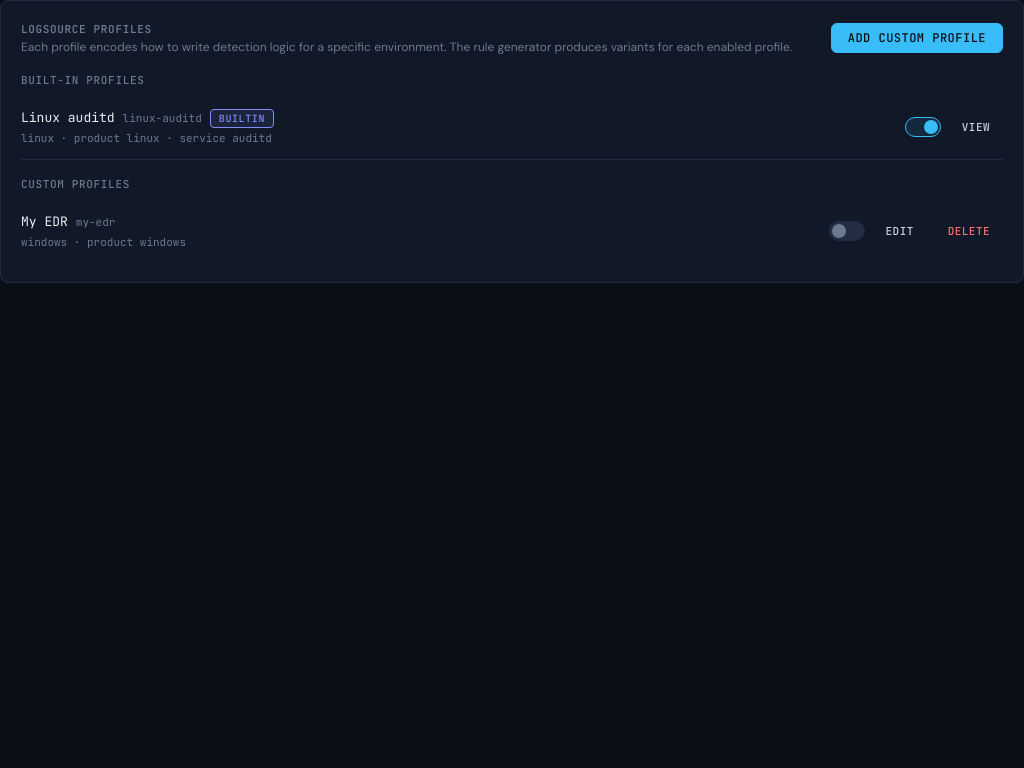
Test: ProfilesSection › opens a read-only modal exposing built-in content (no Save, fields disabled)
Expected: the text "Linux auditd" is shown, [21,109,115,126]
Click the button "View" at (976, 127), box [949,117,1003,138]
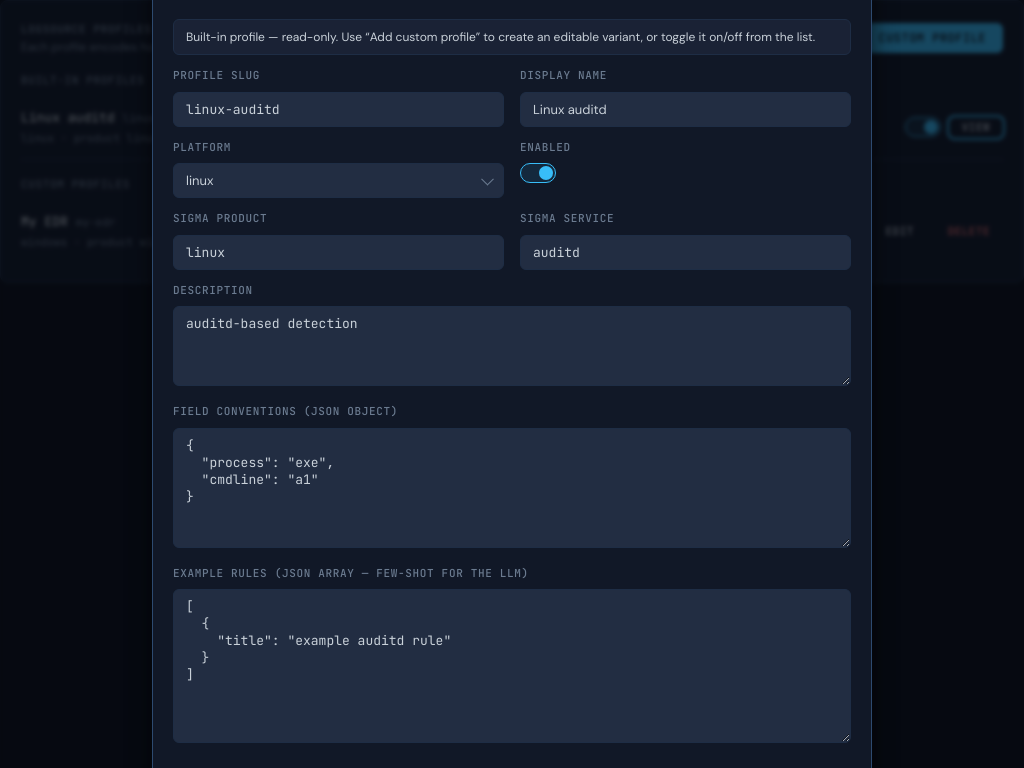
Expected: the text "read-only" is shown, [186,29,815,45]
Expected: the text box "\"process\": \"exe\"" is shown, [173,428,851,548]
Expected: the field showing "linux-auditd" is disabled, [173,92,504,126]
